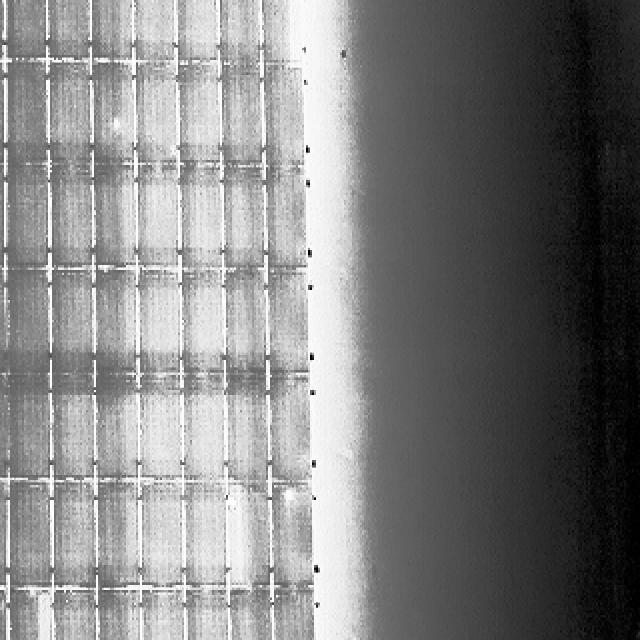Hotspots: (225, 487, 241, 509), (281, 486, 298, 506)
PV-modules: (9, 483, 58, 594), (50, 267, 100, 375), (48, 162, 97, 266), (135, 377, 181, 484), (92, 484, 137, 593), (179, 160, 224, 269), (7, 273, 53, 379), (269, 378, 313, 488), (184, 486, 230, 591), (182, 268, 227, 375), (267, 273, 312, 380), (90, 269, 134, 378), (225, 488, 270, 594), (137, 479, 181, 586), (228, 376, 272, 483), (220, 271, 264, 378), (48, 64, 92, 171), (50, 377, 96, 479), (3, 164, 48, 268), (3, 64, 48, 168), (52, 484, 96, 590), (134, 274, 178, 379), (269, 488, 313, 593), (224, 167, 267, 274), (184, 375, 227, 482), (134, 166, 177, 272), (93, 60, 136, 166), (94, 168, 138, 270), (96, 377, 140, 479), (134, 66, 178, 168), (6, 375, 49, 479), (265, 170, 308, 274), (222, 65, 265, 167), (178, 61, 220, 165), (264, 62, 305, 168), (46, 0, 94, 59), (261, 0, 304, 64), (216, 0, 260, 62), (175, 0, 219, 62), (132, 0, 176, 62), (1, 0, 46, 59), (88, 0, 131, 60), (270, 587, 316, 640), (140, 587, 184, 640), (52, 592, 100, 640), (10, 592, 58, 640), (186, 592, 232, 640), (226, 592, 272, 640), (92, 592, 138, 640), (0, 478, 8, 588), (0, 375, 8, 480), (0, 63, 8, 165), (0, 270, 6, 378), (0, 587, 10, 640), (0, 162, 4, 268), (0, 0, 6, 58)
